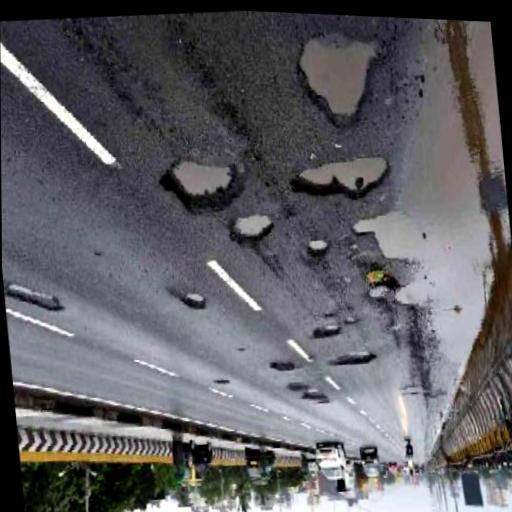pothole: (294, 30, 392, 137), (288, 151, 395, 210), (159, 155, 246, 222), (349, 212, 417, 271), (5, 278, 64, 322), (228, 212, 276, 252), (286, 377, 331, 413), (329, 350, 376, 373), (179, 289, 207, 315), (268, 357, 295, 378), (315, 322, 343, 342), (307, 239, 331, 259)
